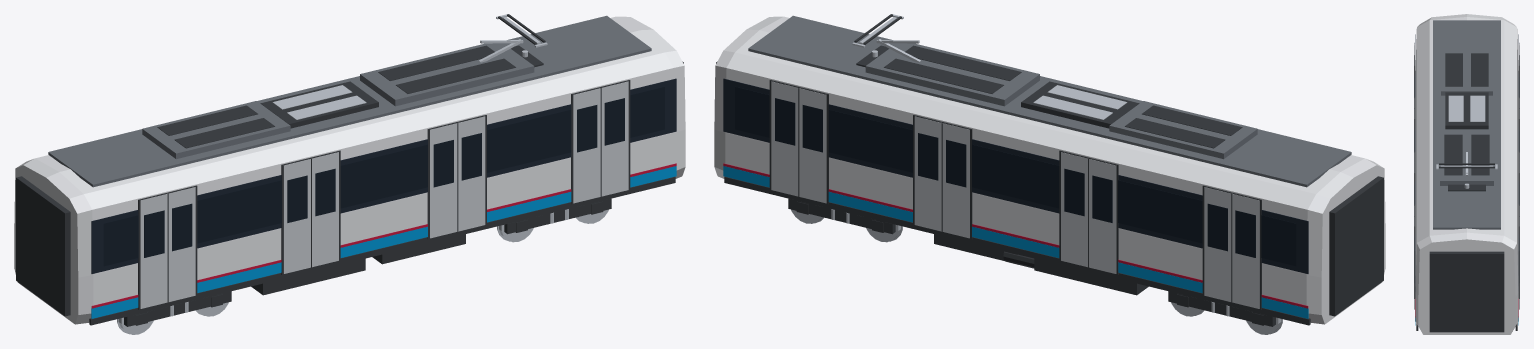
The model's file is rer_b_mi79_car.glb.
3 renders of one model, left to right at view 1: azimuth 30°, elevation 25°; view 2: azimuth 150°, elevation 25°; view 3: azimuth 270°, elevation 25°, orthographic. The views are drawn at different scales.
Visible parts, largest first — view 1: rer_b_mi79_neutral; view 2: rer_b_mi79_neutral; view 3: rer_b_mi79_neutral.
Part boxes in pixels (<box>): rer_b_mi79_neutral: <box>14,14,685,334</box>; rer_b_mi79_neutral: <box>714,14,1385,334</box>; rer_b_mi79_neutral: <box>1414,14,1519,334</box>.
Bounding box in the file's own units: 15.14 × 4.56 × 2.95.
